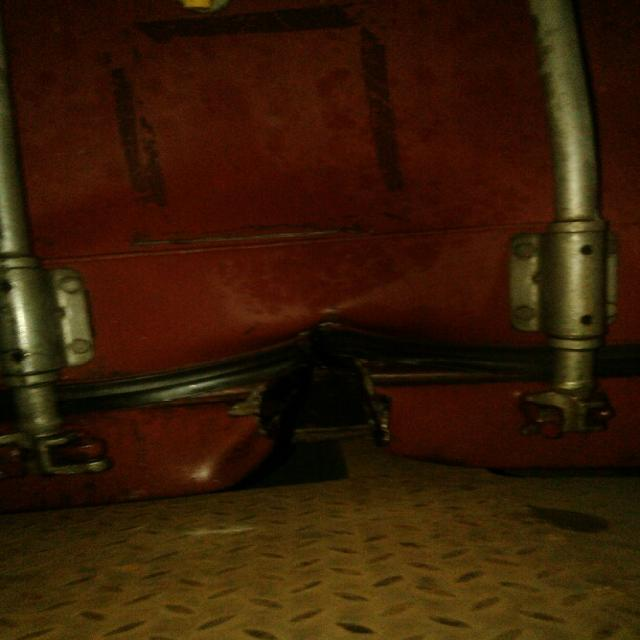dent: (3, 263, 638, 504)
